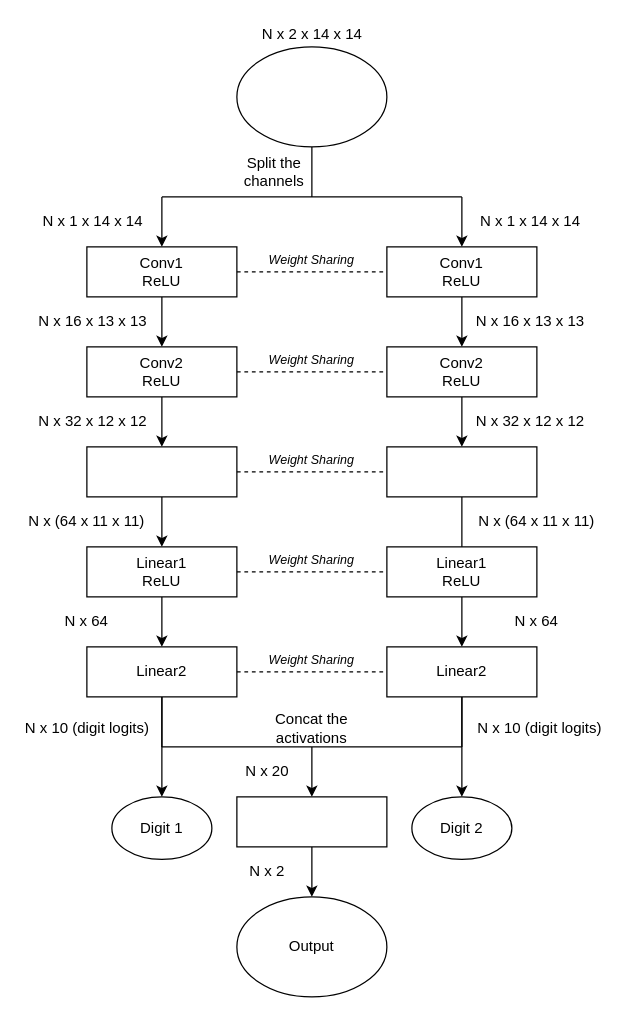
Some shapes in this 628 by 1019 pixel diagram are drawn without their labels. Here are the shapes that lost their labels. From the top down, the centre of each, then its label:
point (311, 96): Input
point (161, 471): Conv3 Flatten
point (461, 471): Conv3 ReLU
point (311, 821): ReLU Linear3
